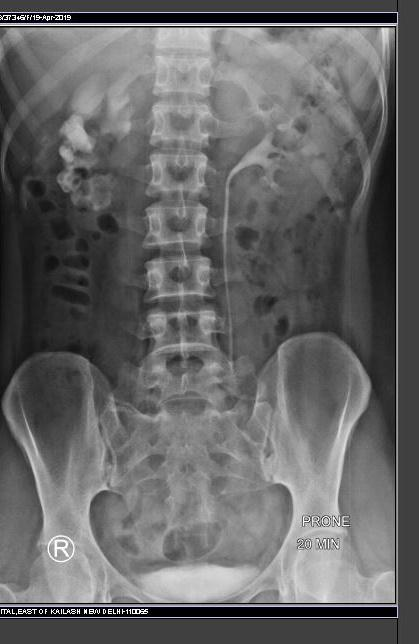bladder: (114, 526, 268, 602)
left kidney: (227, 90, 343, 239)
vertebrae: (145, 151, 212, 200)
